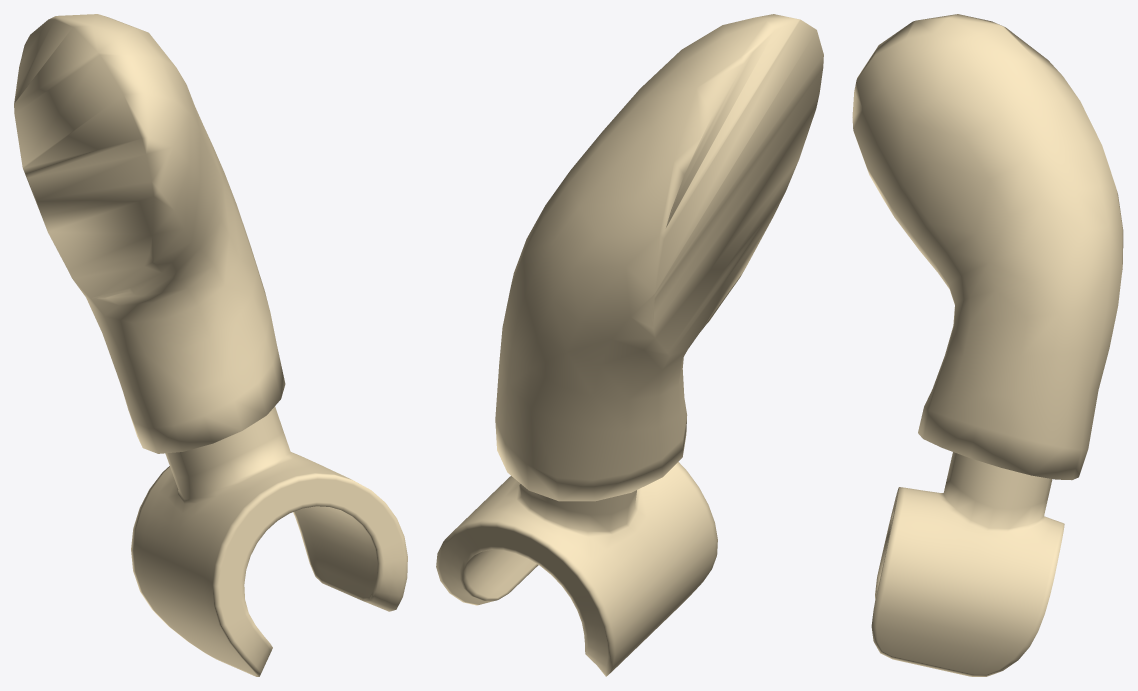
The model's file is brazoIzq.obj.
3 renders of one model, left to right at view 1: azimuth 30°, elevation 25°; view 2: azimuth 150°, elevation 25°; view 3: azimuth 270°, elevation 25°, orthographic. The views are drawn at different scales.
Parts seen in each view (by area): view 1: brazoIzqBart; view 2: brazoIzqBart; view 3: brazoIzqBart.
Boxes of the visible parts, x1,y1,x2,y2 form: brazoIzqBart: (14,14,407,676); brazoIzqBart: (436,14,823,676); brazoIzqBart: (852,14,1123,676).
Bounding box in the file's own units: 1.14 × 2.49 × 1.06.
Materials: 1 (1 with a texture image).
